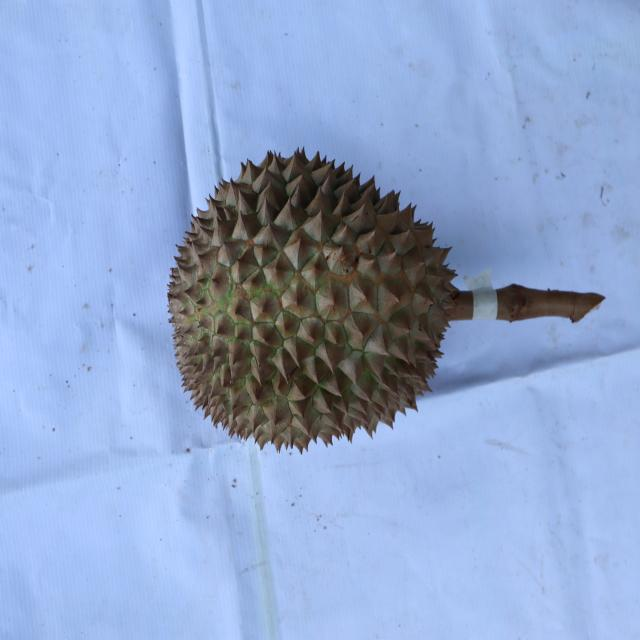mature: (165, 145, 456, 454)
